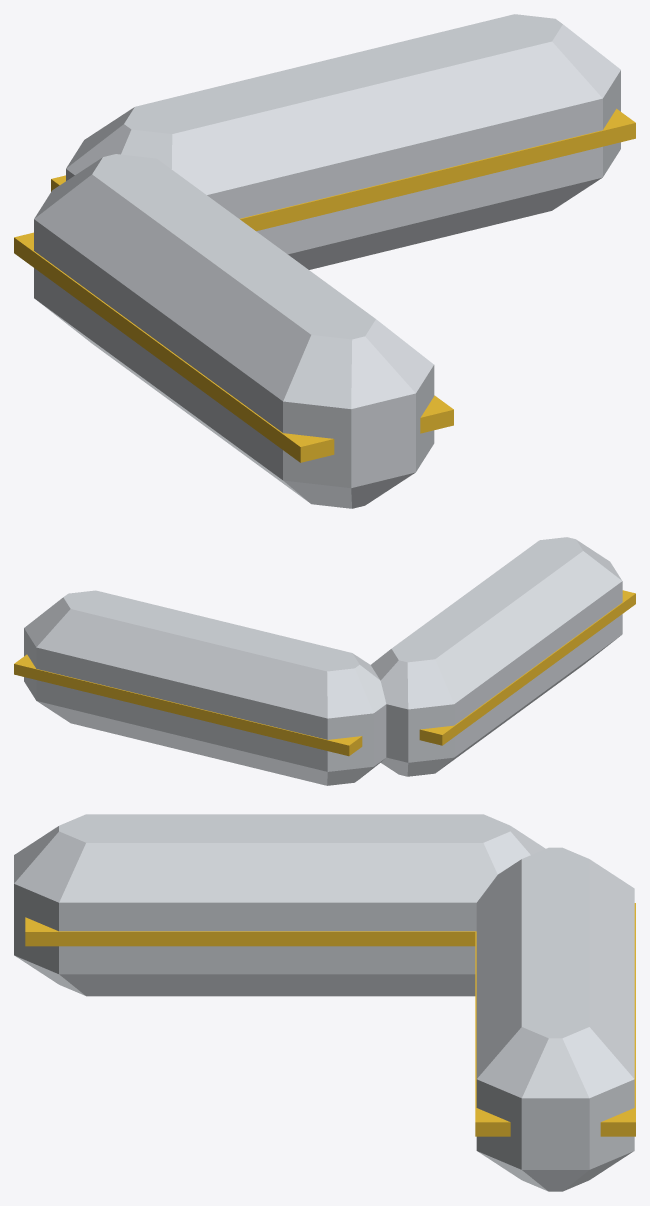
File: snake_corner.glb
3 renders of one model, top to bottom at view 1: azimuth 30°, elevation 25°; view 2: azimuth 150°, elevation 25°; view 3: azimuth 270°, elevation 25°, orthographic. The views are drawn at different scales.
Visible parts, largest first — view 1: snake_corner; view 2: snake_corner; view 3: snake_corner.
Part boxes in pixels (x1,y1,x2,y2): snake_corner: (14,14,635,508); snake_corner: (14,537,635,785); snake_corner: (14,814,635,1191).
Size of the model in its own units: 2.76 by 0.75 by 2.76.
